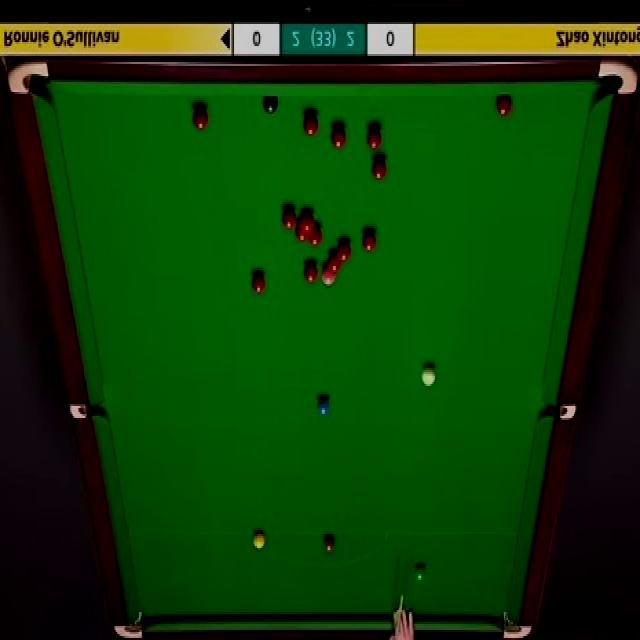black-ball: (262, 93, 279, 116)
blue-ball: (318, 396, 330, 415)
brown-ball: (322, 534, 335, 553)
green-ball: (413, 562, 428, 583)
pink-ball: (320, 266, 336, 288)
red-ball: (365, 124, 383, 152), (370, 155, 387, 182), (301, 112, 320, 136), (331, 125, 347, 152), (495, 93, 512, 118), (250, 270, 266, 296), (192, 107, 208, 132), (336, 236, 352, 261), (303, 261, 318, 285), (362, 229, 377, 253), (281, 208, 297, 230), (309, 225, 324, 248), (300, 211, 314, 235), (327, 254, 342, 272), (296, 225, 309, 243)
white-ball: (420, 364, 436, 390)
yellow-ball: (252, 530, 265, 552)
